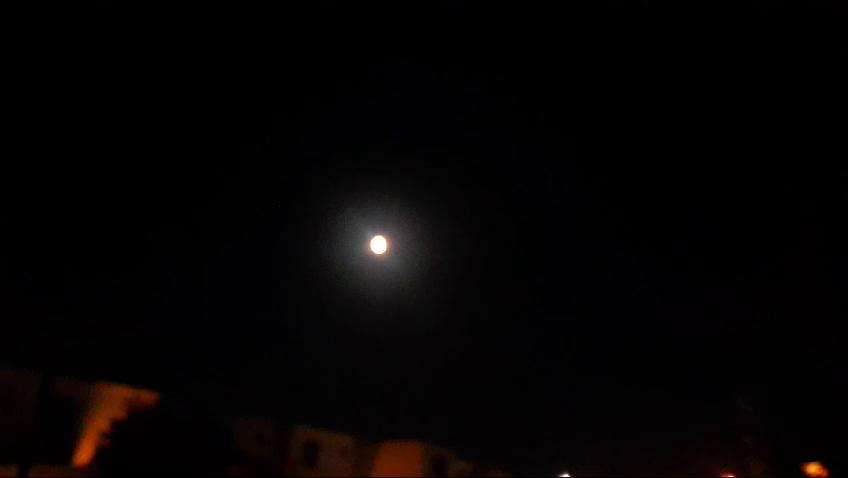moon: (362, 229, 386, 255)
